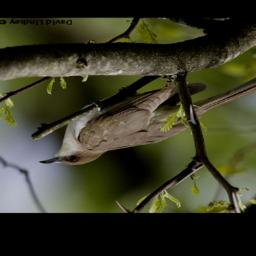Cuckoo: (42, 66, 256, 167)
